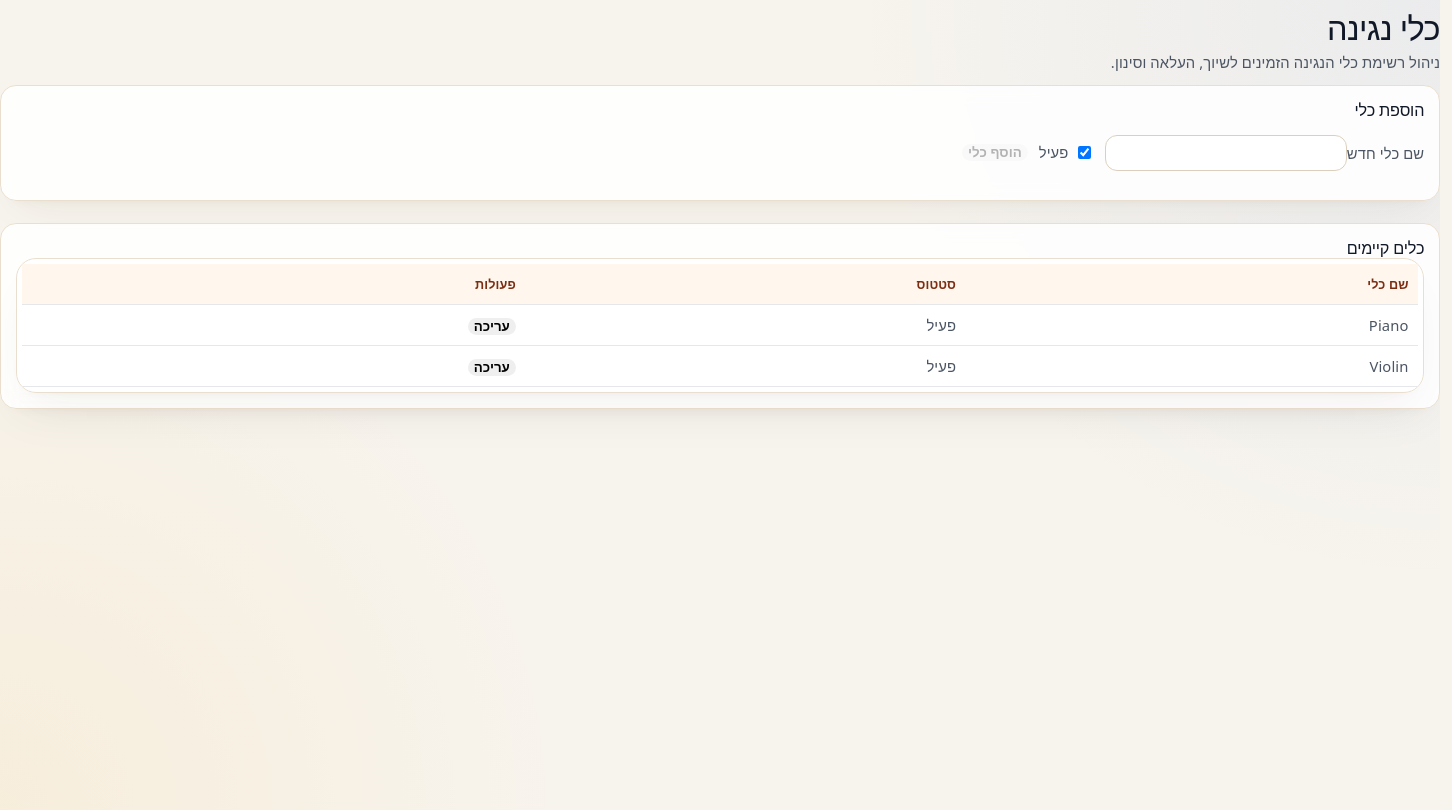
Scenario: AdminInstrumentsPage › creates an instrument
Expected: the text "Piano" is shown, [966, 305, 1418, 346]
Type "Flute" into the field labelled "שם כלי חדש".
click(1226, 153); type("Flute")  # box [1105, 135, 1347, 171]
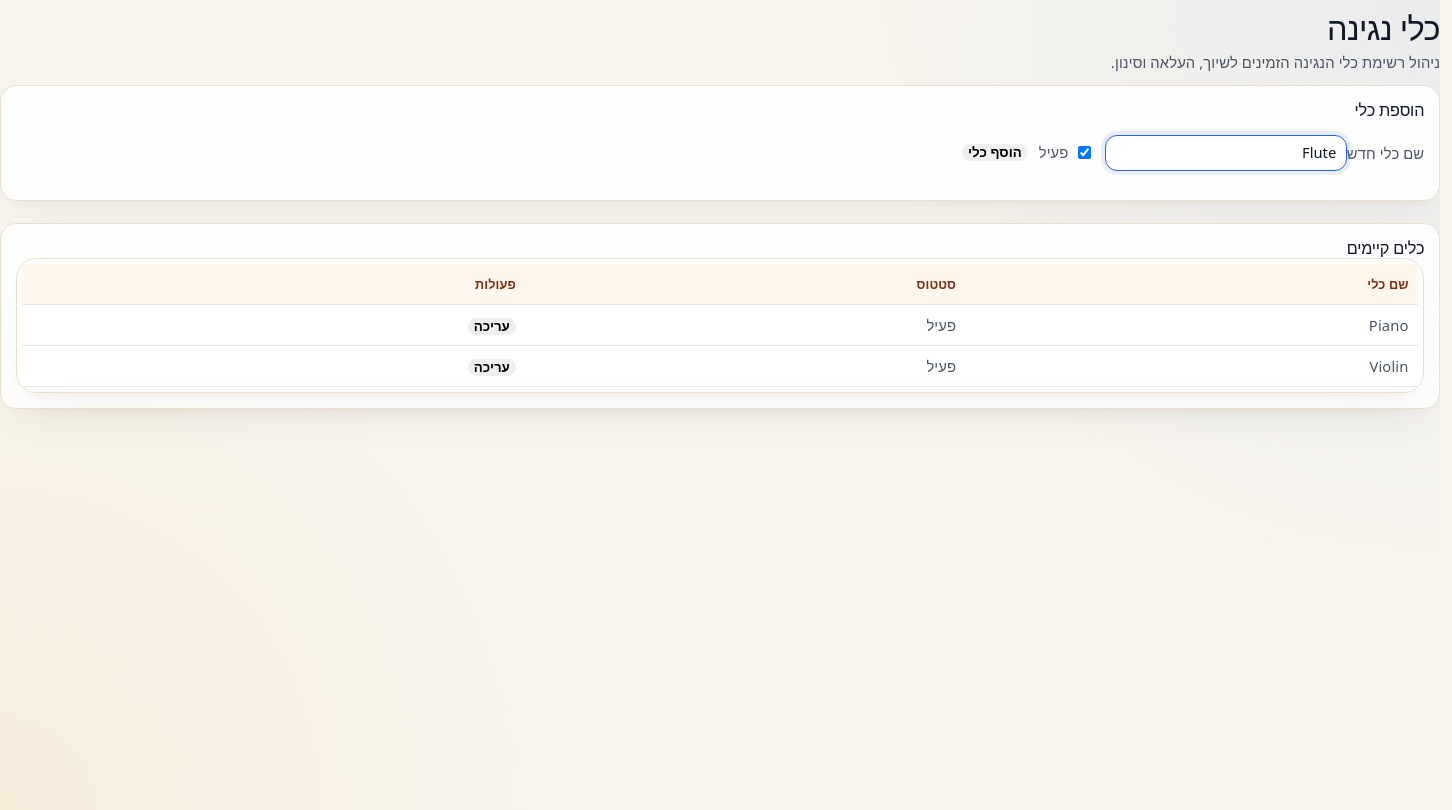
Click the button "הוסף כלי".
click(995, 153)  # box [962, 144, 1028, 161]
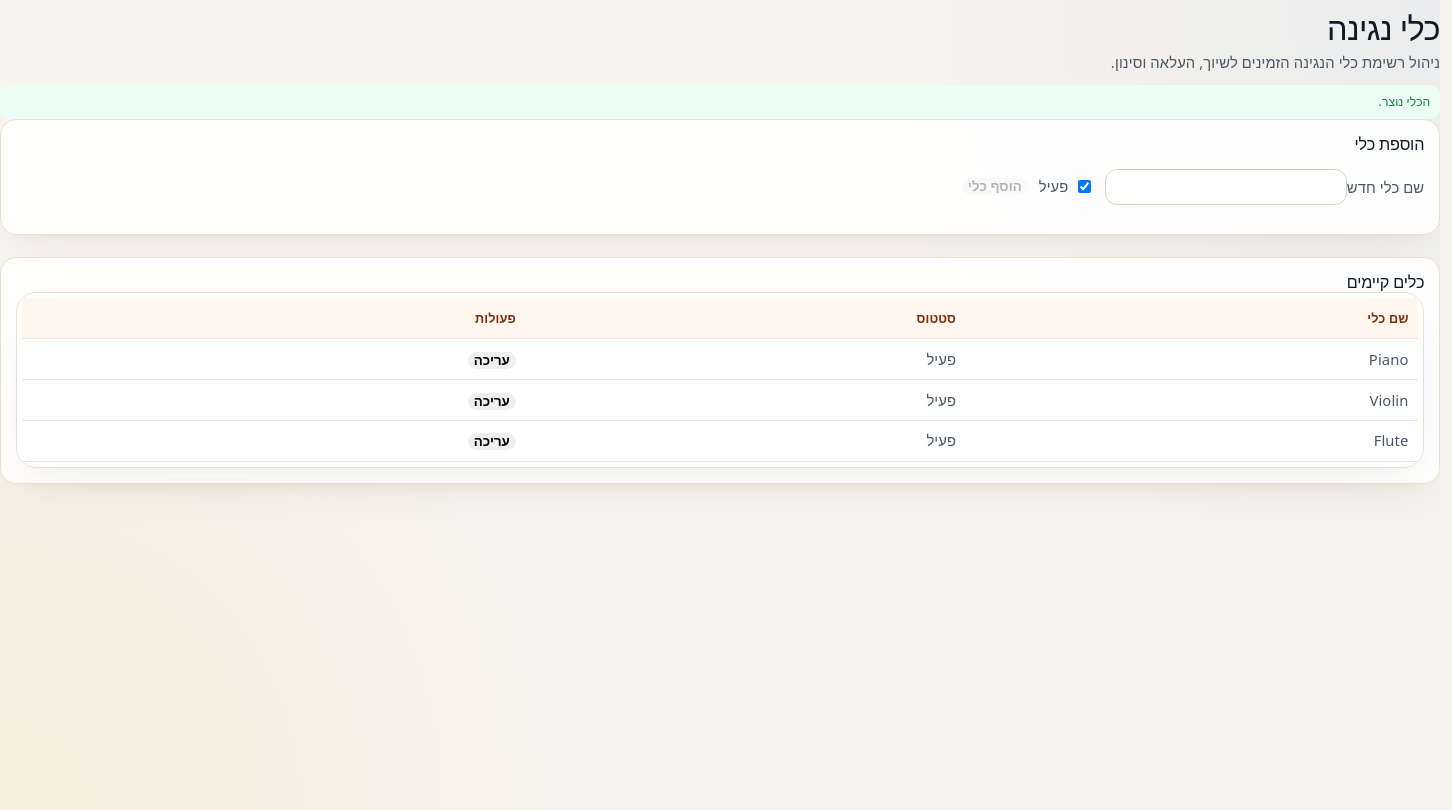
Expected: the text "הכלי נוצר." is shown, [0, 85, 1440, 119]
Expected: the text "Flute" is shown, [966, 420, 1418, 461]
